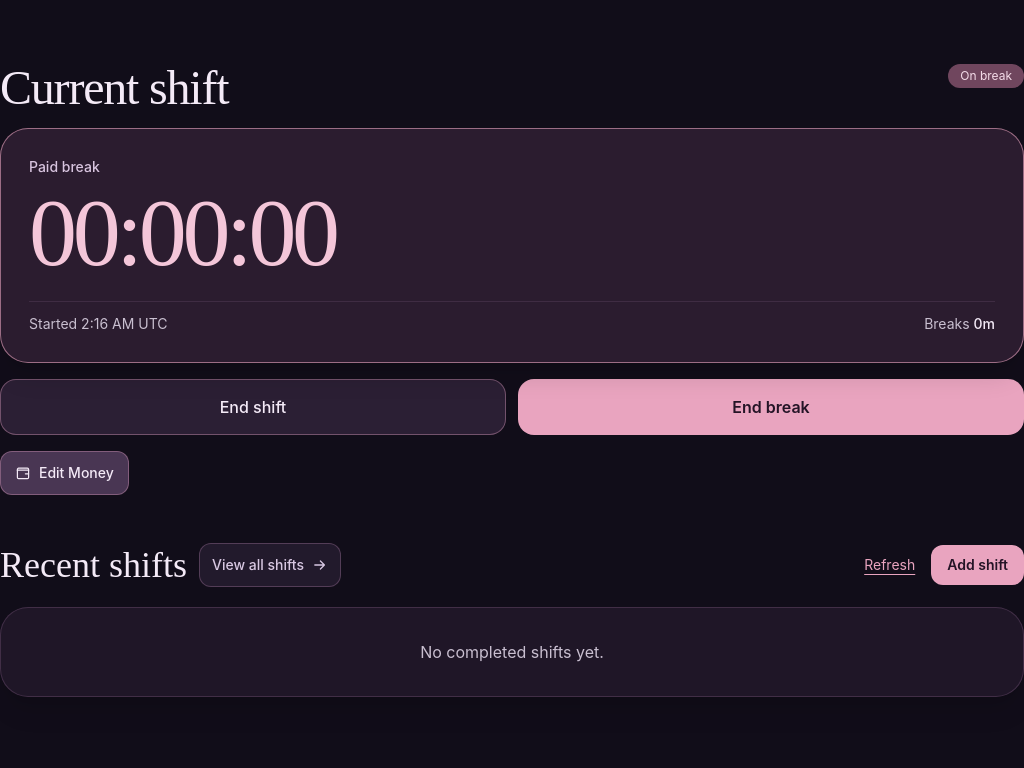
it: shift logger › ends an active break and returns to the compact working state
Expected: the text "On break" is shown, [948,64,1023,88]
Expected: the text "Paid break" is shown, [29,158,100,175]
Click the button "End break" at (771, 407), box [518,379,1023,435]
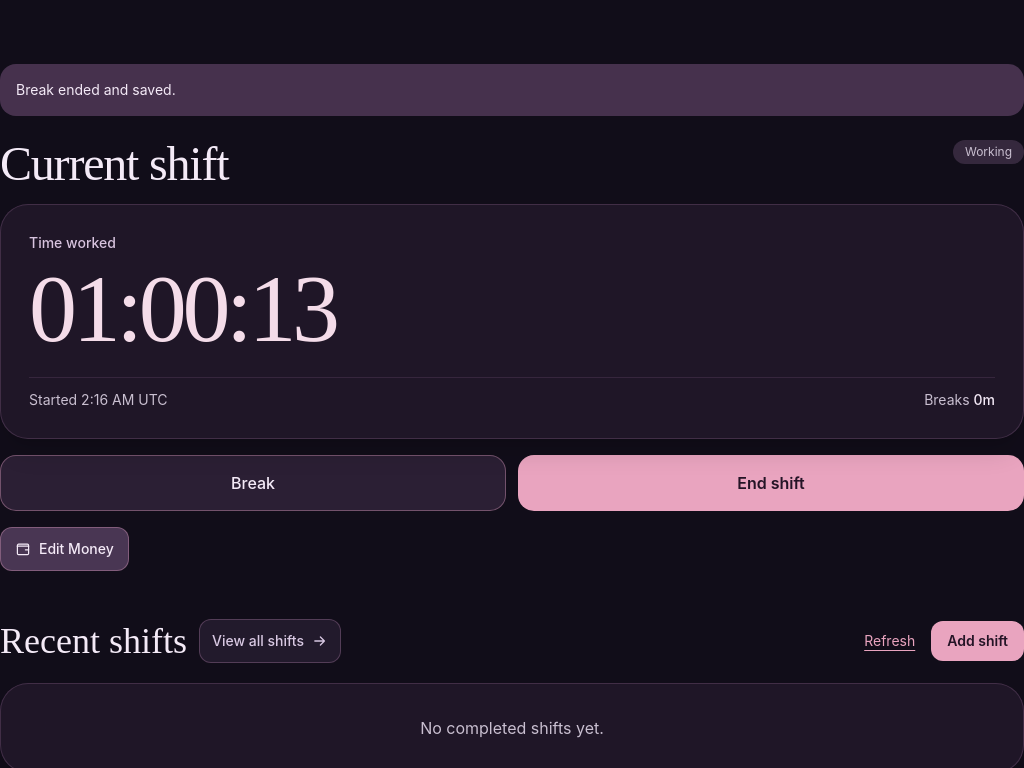
Expected: the button "Break" is shown, [0,455,506,511]
Expected: the button "End shift" is shown, [518,455,1023,511]
